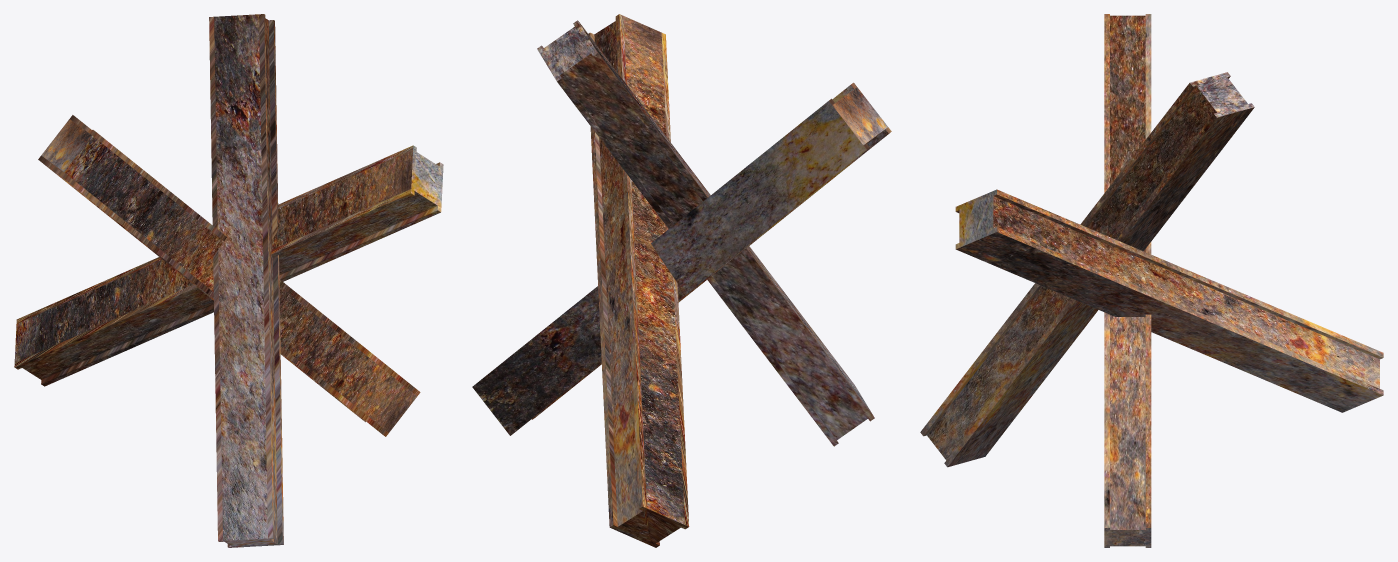
Rendered from TankBlock.fbx.
3 renders of one model, left to right at view 1: azimuth 30°, elevation 25°; view 2: azimuth 150°, elevation 25°; view 3: azimuth 270°, elevation 25°, orthographic. The views are drawn at different scales.
Visible parts, largest first — view 1: Box002; view 2: Box002; view 3: Box002.
Part boxes in pixels (bbox=[...]): Box002: bbox=[14, 14, 443, 547]; Box002: bbox=[472, 14, 891, 547]; Box002: bbox=[920, 14, 1383, 547].
Size of the model in its own units: 2032 by 2313 by 2200.
Materials: 1 (1 with a texture image).
